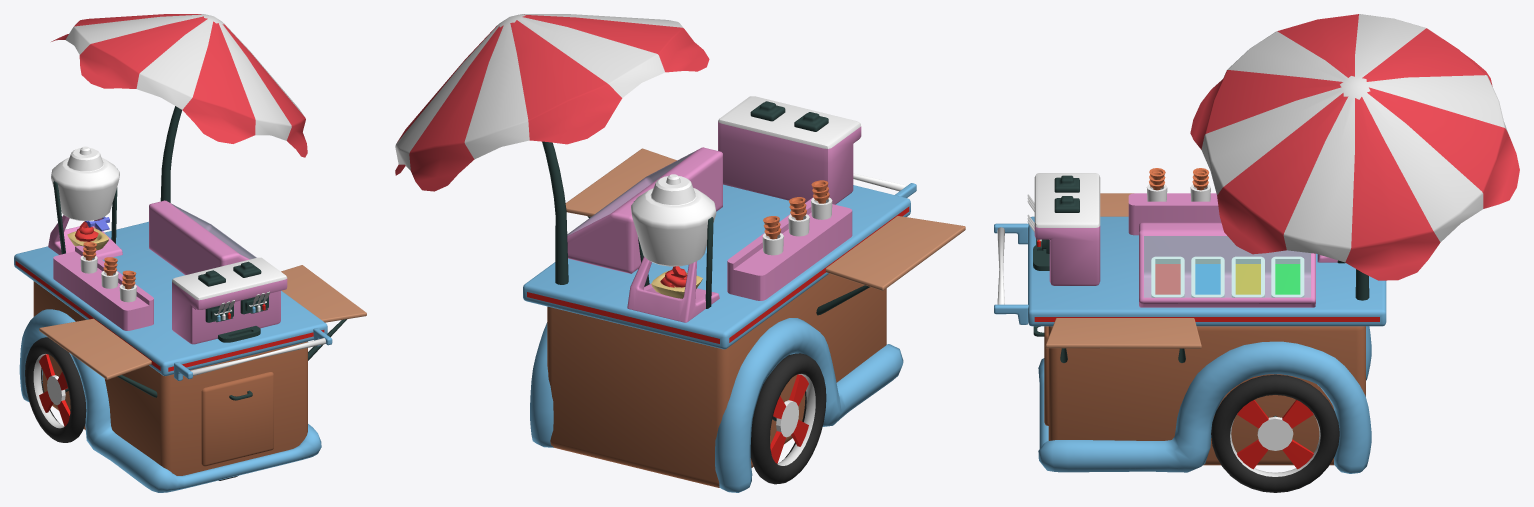
The model's file is carrettoGelato.fbx.
3 views of the same model, side by side, from view 1: azimuth 30°, elevation 25°; view 2: azimuth 150°, elevation 25°; view 3: azimuth 270°, elevation 25° (orthographic). The views are drawn at different scales.
Visible parts, largest first — view 1: CarrettoGelato; view 2: CarrettoGelato; view 3: CarrettoGelato.
Part boxes in pixels (bbox=[...]): CarrettoGelato: bbox=[14, 14, 366, 492]; CarrettoGelato: bbox=[395, 14, 965, 492]; CarrettoGelato: bbox=[994, 14, 1519, 492].
Bounding box in the file's own units: 395 × 429 × 485.
